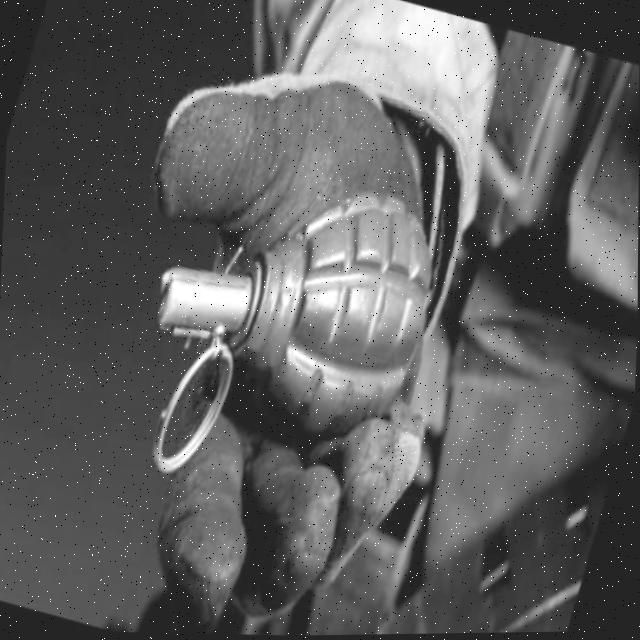grenade: (106, 126, 465, 538)
